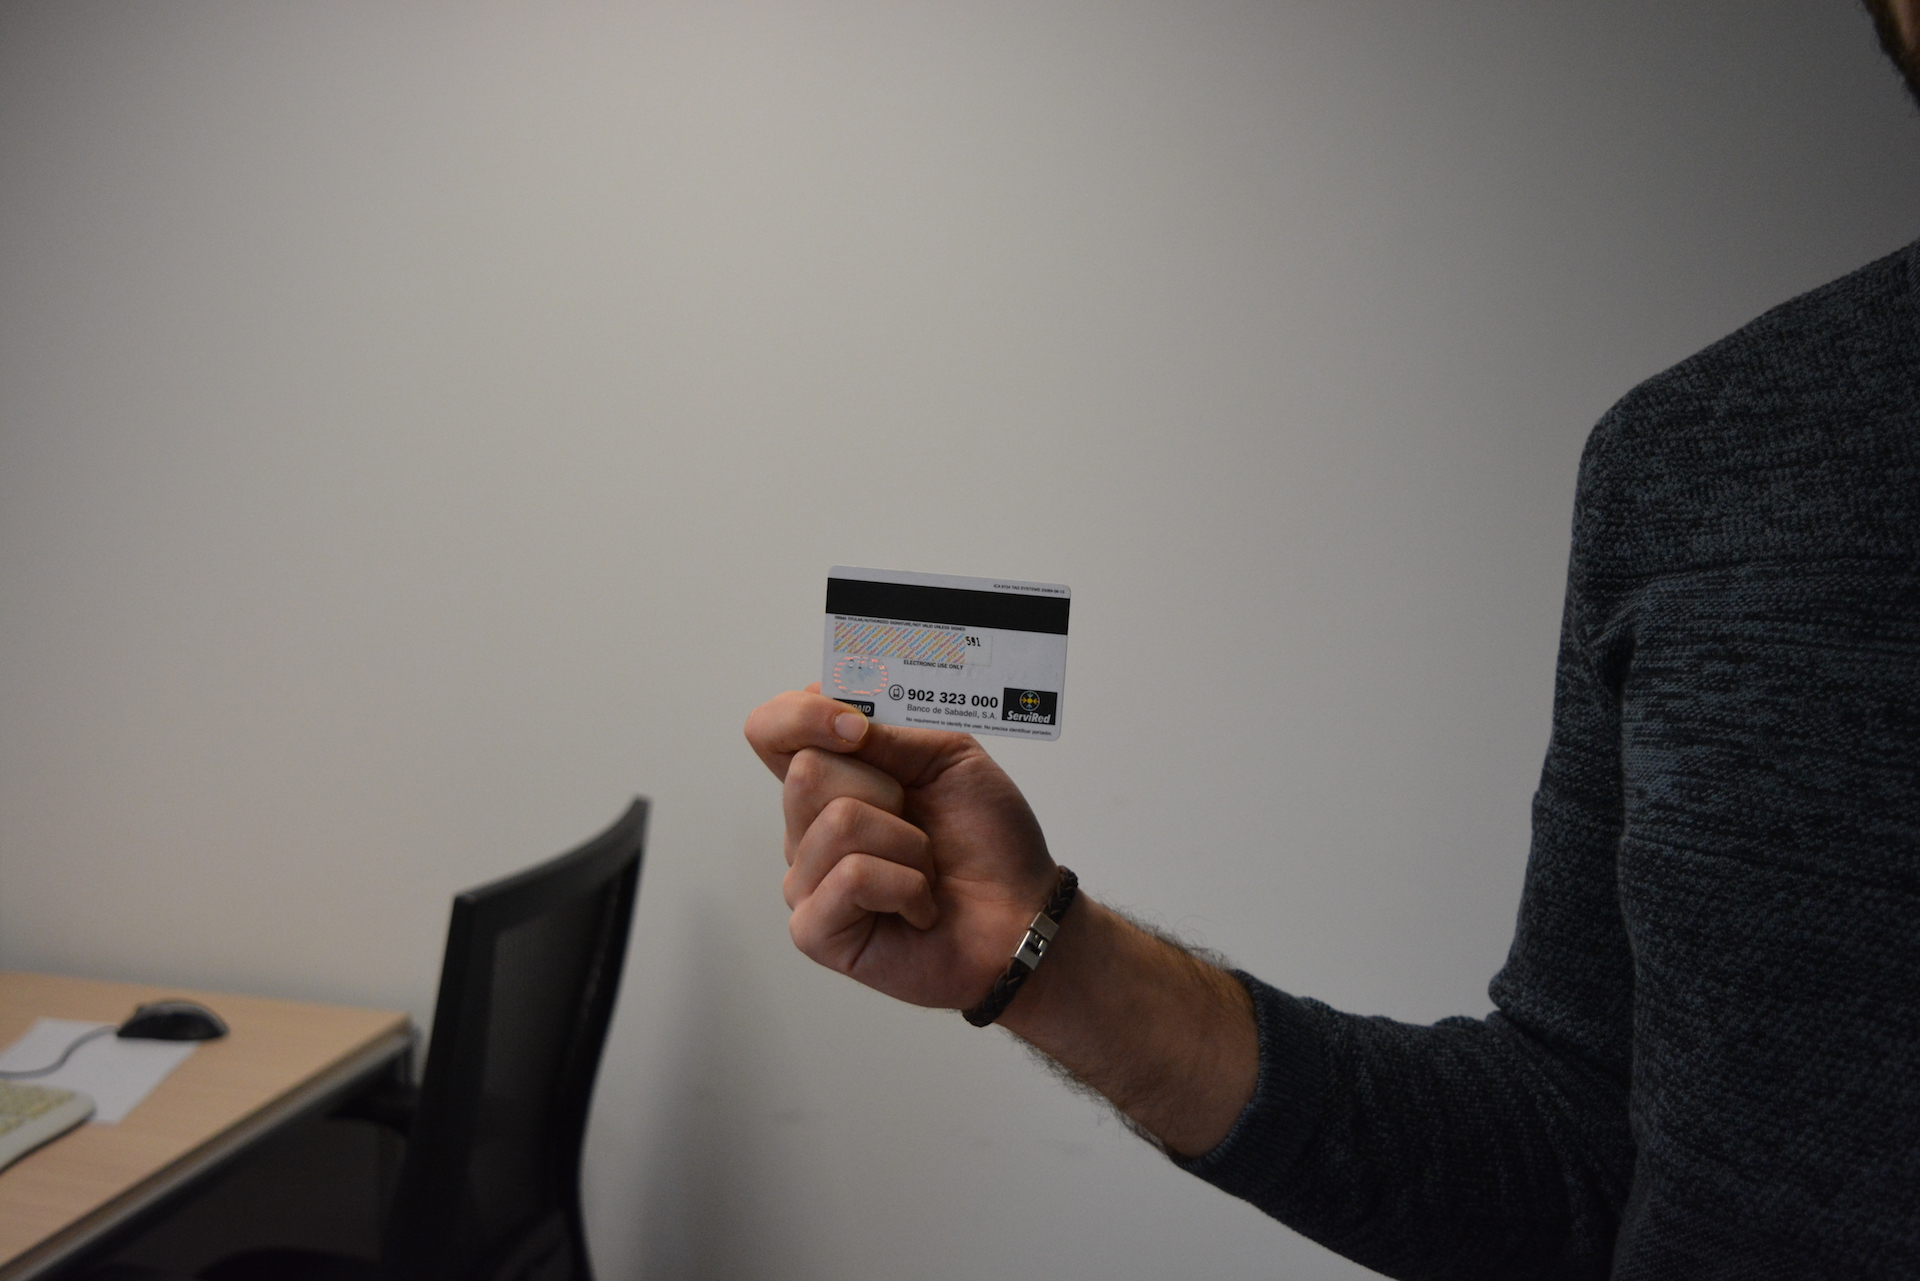tarjeta: (819, 563, 1072, 743)
